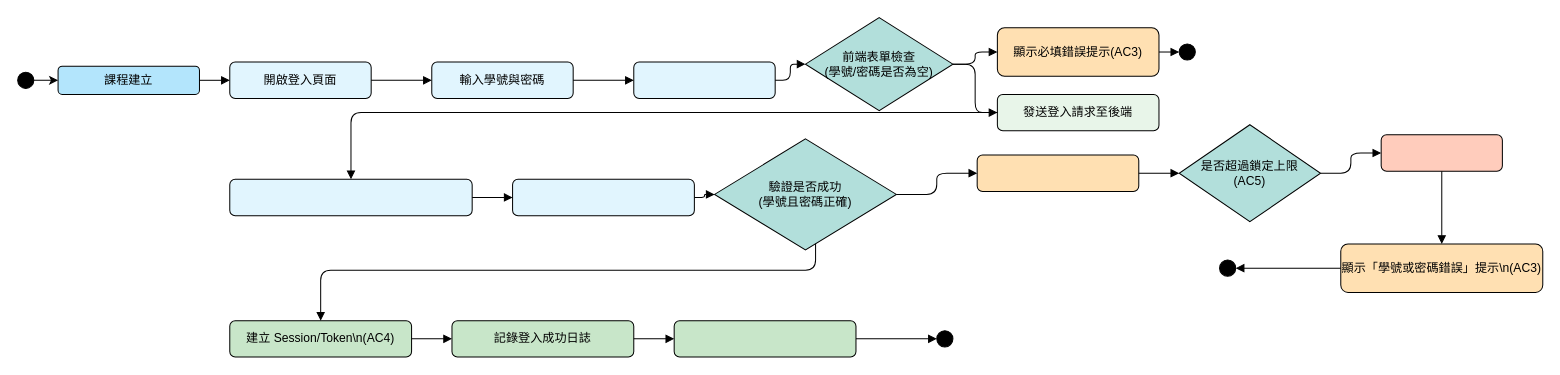
The diagram is 1560 pixels wide and 375 high, and some of its shapes have lost their labels. The centre of each missing label's shape, as x and y in pixels:
AuthService 查詢學號是否存在: the point at 350,197
執行密碼雜湊比對: the point at 603,197
導向選課頁面 (AC2): the point at 764,338
錯誤登入次數計數: the point at 1057,172
鎖定帳號: the point at 1441,152
點擊「登入」按鈕: the point at 704,79
